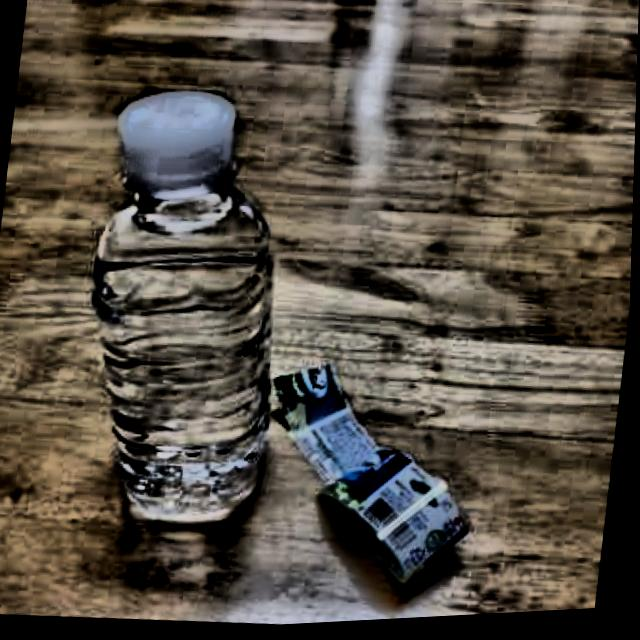Bottles: (45, 73, 330, 550)
